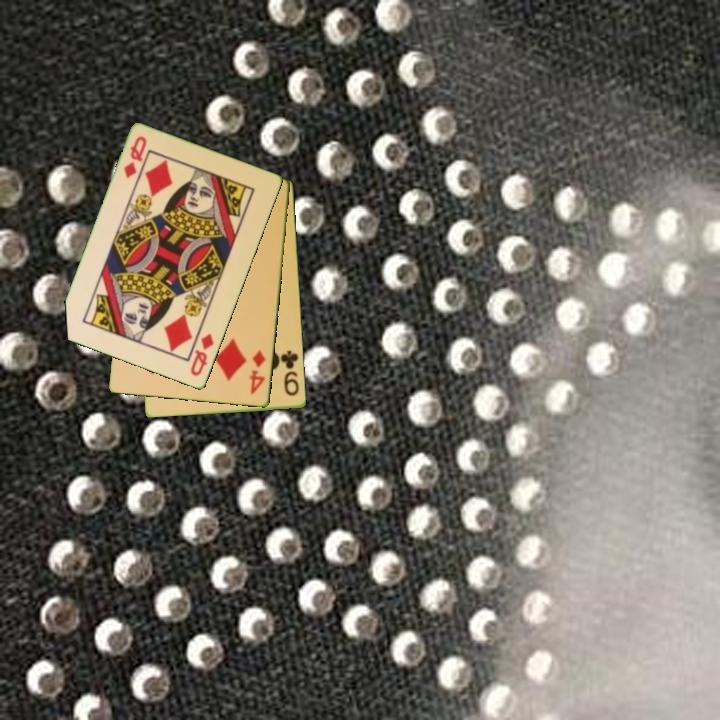4d: (246, 347, 269, 398)
9c: (278, 347, 302, 399)
Qd: (187, 330, 217, 379), (120, 133, 150, 182)
